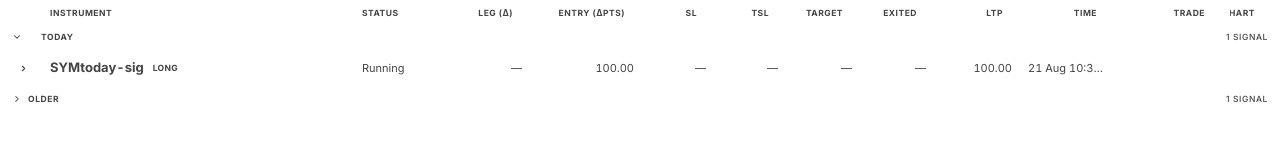
Test: collapseOlderDays on SignalBoard › collapses older day groups by default and expands Today when collapseOlderDays=true
expect the text "SYMtoday-sig" is shown: met, box x1=50 y1=58 x2=144 y2=78
expect the text "SYMolder-sig" is not shown: met
Click the button "Older 1 signal" at (44, 98), box x1=12 y1=94 x2=1268 y2=104
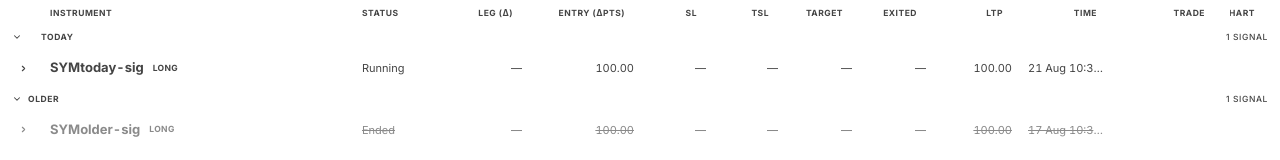
expect the text "SYMolder-sig" is shown: met, box x1=50 y1=120 x2=140 y2=140
# Clicking again collapses it
Click the button "Older 1 signal" at (44, 98), box x1=12 y1=94 x2=1268 y2=104
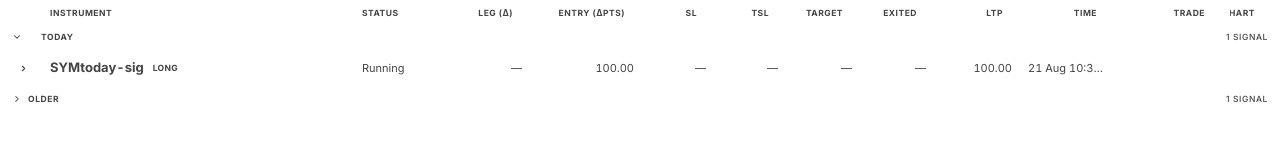
expect the button "SYMolder-sig" is gone: met
